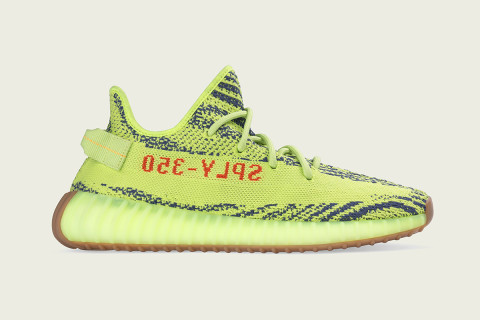Yeezy Semi-Frozen: (44, 43, 439, 256)
